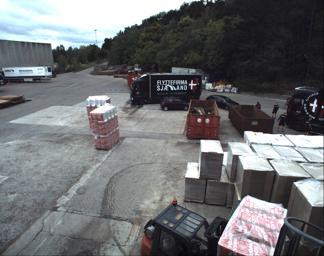rockwool_batts: (218, 195, 283, 255), (92, 103, 119, 147), (87, 94, 108, 121)
